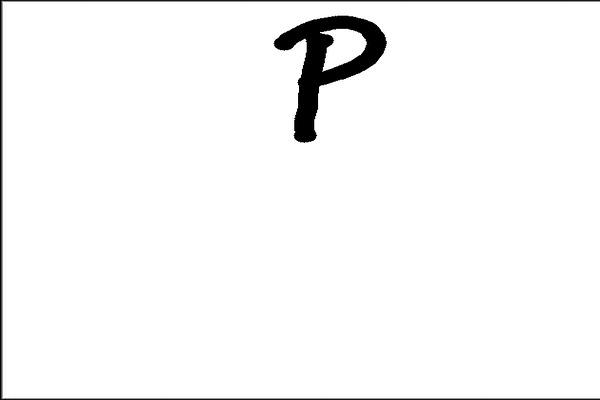P: (263, 9, 388, 157)
